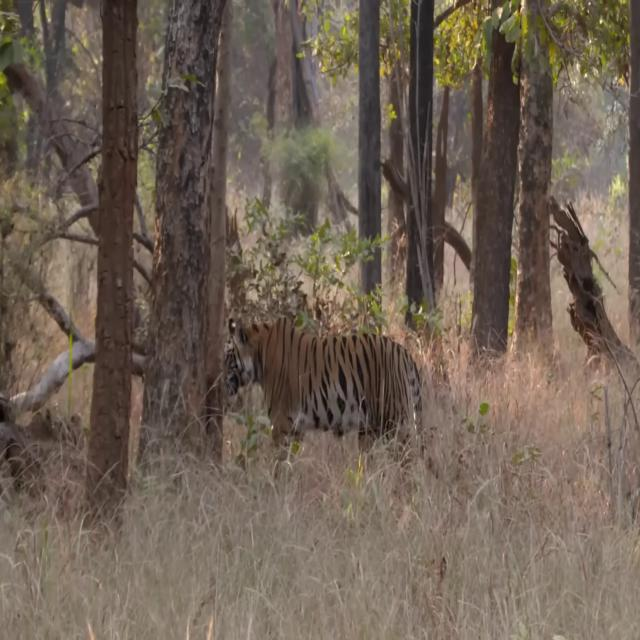tiger: (223, 313, 452, 500)
